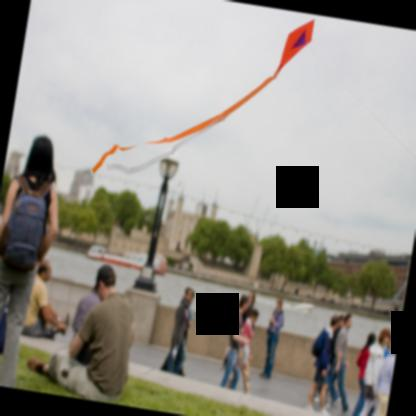backpack: (0, 192, 47, 273), (312, 330, 329, 359)
